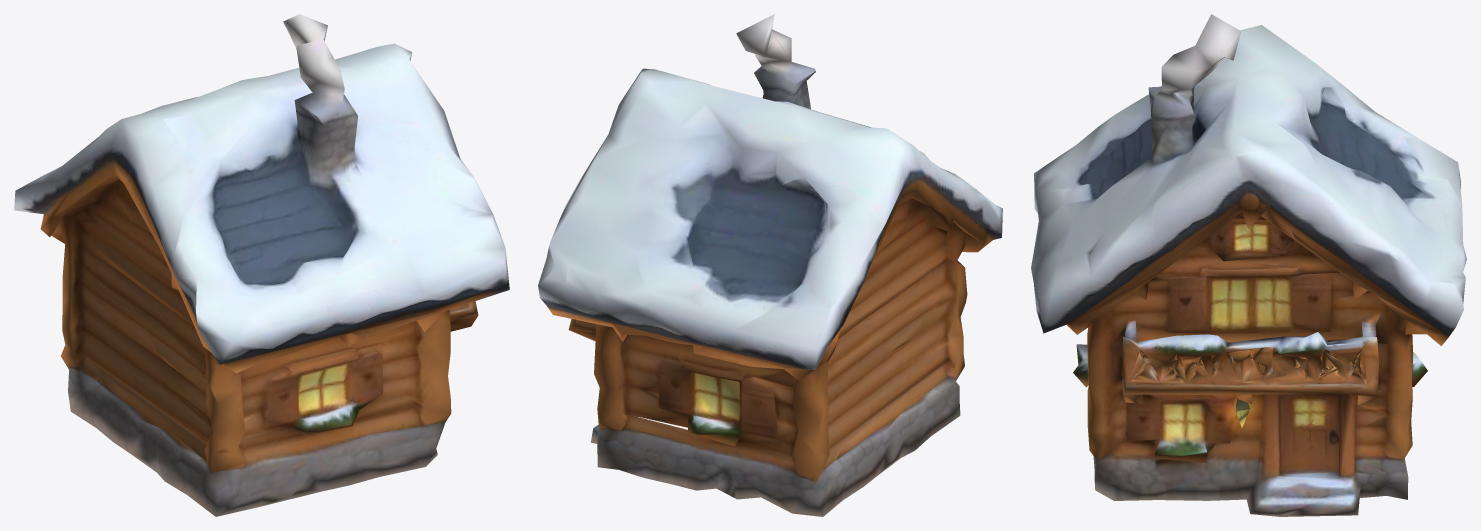
File: chalet.glb
3 views of the same model, side by side, from view 1: azimuth 30°, elevation 25°; view 2: azimuth 150°, elevation 25°; view 3: azimuth 270°, elevation 25° (orthographic). The views are drawn at different scales.
Visible parts, largest first — view 1: tripo_node_cc172e2f-2597-410b-ad11-35e4d84c6a68; view 2: tripo_node_cc172e2f-2597-410b-ad11-35e4d84c6a68; view 3: tripo_node_cc172e2f-2597-410b-ad11-35e4d84c6a68.
Boxes of the visible parts, box(x1,y1,x2,y2) form: tripo_node_cc172e2f-2597-410b-ad11-35e4d84c6a68: box(14, 14, 509, 516); tripo_node_cc172e2f-2597-410b-ad11-35e4d84c6a68: box(538, 14, 1002, 516); tripo_node_cc172e2f-2597-410b-ad11-35e4d84c6a68: box(1031, 14, 1466, 516).
Bounding box in the file's own units: 0.7753 × 1 × 0.8947.
1 material, 1 textured.
